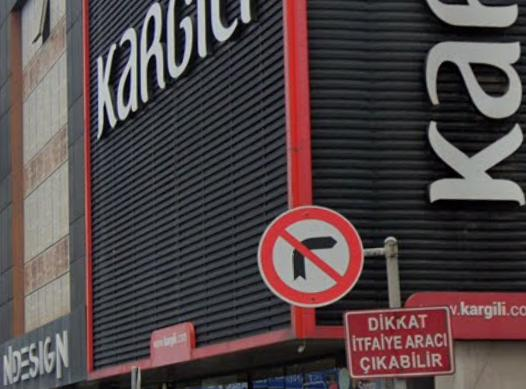yellowlight: (245, 214, 364, 294)
